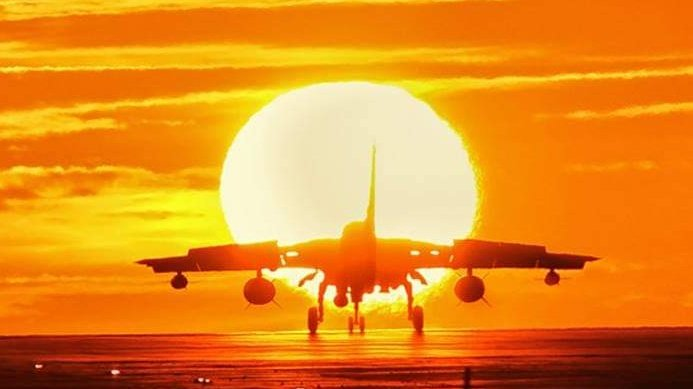Tornado: (131, 143, 604, 332)
